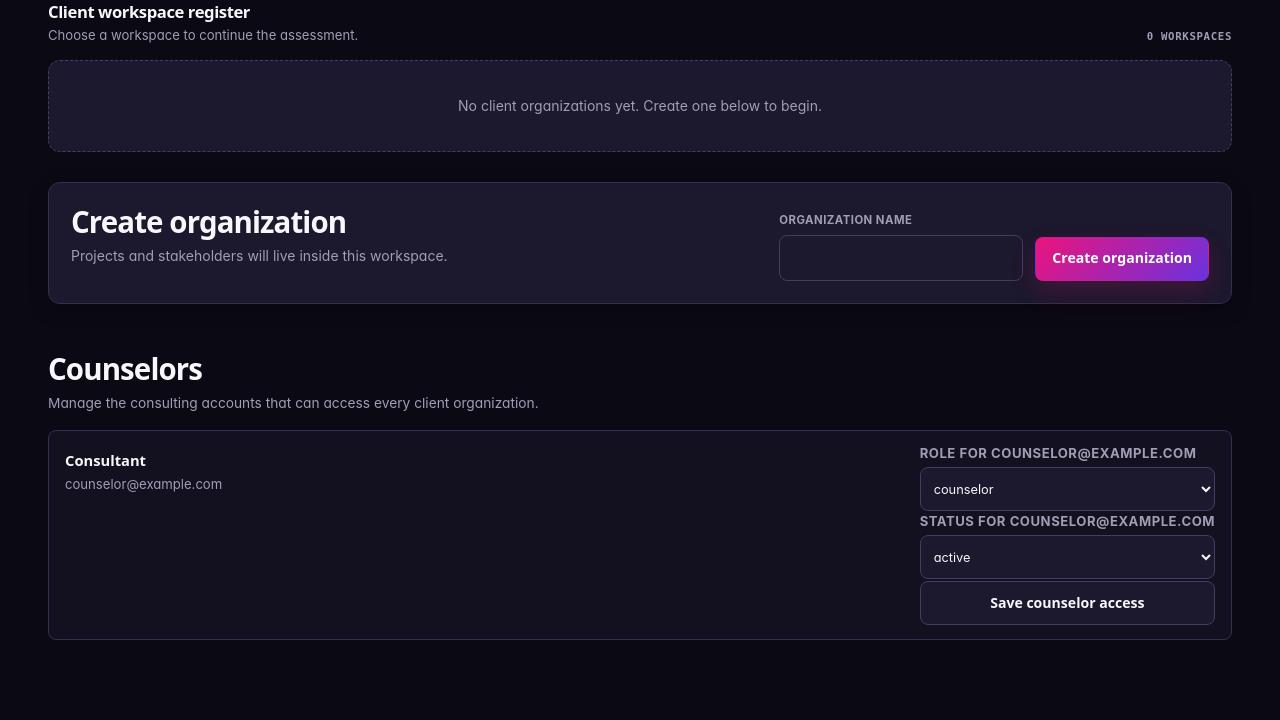
Scenario: uses the shared ellipsis while counselor access saves
(page scrolled)
Click the button with aria-label "save access for counselor@example.com" at (1067, 603), box [920,581,1215,625]
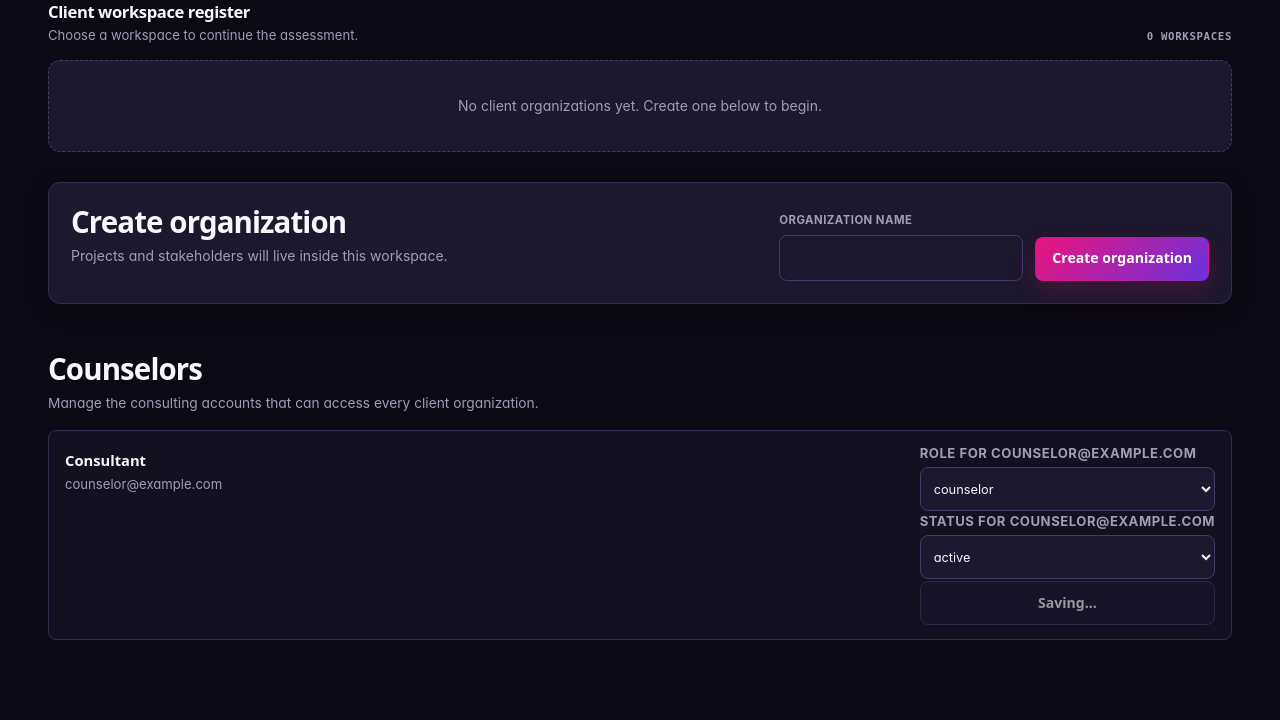
Result: the button with aria-label "save access for counselor@example.com" reads "Saving…" at [920,581,1215,625]
